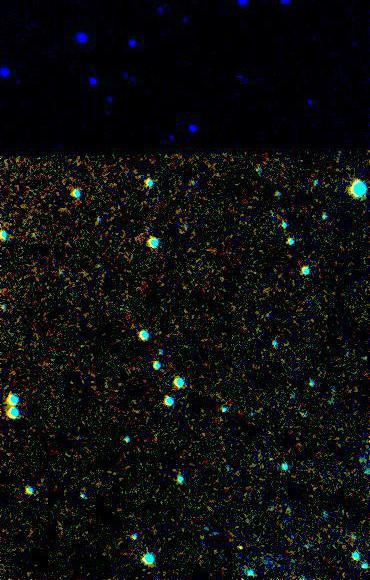star: (226, 534, 256, 564)
